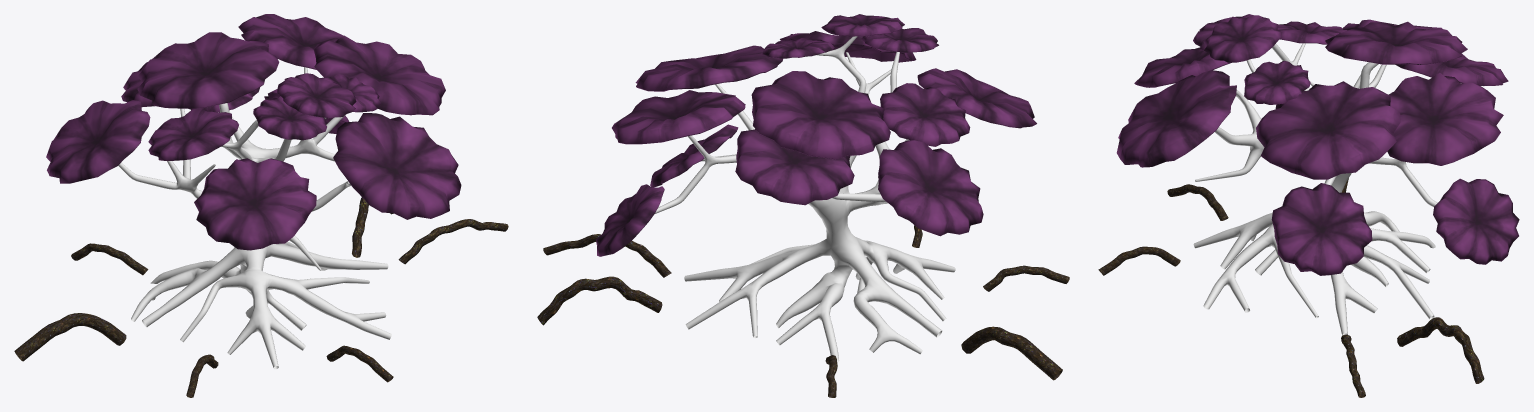
File: LostTree.fbx
3 views of the same model, side by side, from view 1: azimuth 30°, elevation 25°; view 2: azimuth 150°, elevation 25°; view 3: azimuth 270°, elevation 25° (orthographic). The views are drawn at different scales.
Visible parts, largest first — view 1: Cube, Circle.013, Circle.012, Circle.003, Circle.006, Circle, Circle.002, Circle.005, Circle.010, Circle.009, Sphere, Sphere.003 (+6 smaller); view 2: Cube, Circle.003, Circle, Circle.001, Circle.005, Circle.002, Circle.006, Circle.012, Circle.007, Sphere, Sphere.004, Circle.008 (+6 smaller); view 3: Cube, Circle.006, Circle.005, Circle.013, Circle.008, Circle.007, Circle.003, Circle.010, Circle.011, Circle.012, Circle.001, Sphere.004 (+5 smaller).
Part boxes in pixels (x1=…): Cube: x1=118, y1=67, x2=391, y2=369; Circle.013: x1=333, y1=113, x2=461, y2=219; Circle.012: x1=194, y1=158, x2=316, y2=250; Circle.003: x1=137, y1=32, x2=279, y2=108; Circle.006: x1=313, y1=35, x2=445, y2=115; Circle: x1=46, y1=100, x2=150, y2=183; Circle.002: x1=148, y1=108, x2=238, y2=161; Circle.005: x1=238, y1=14, x2=343, y2=69; Circle.010: x1=277, y1=73, x2=356, y2=118; Circle.009: x1=253, y1=96, x2=326, y2=140; Sphere: x1=14, y1=313, x2=126, y2=361; Sphere.003: x1=398, y1=219, x2=508, y2=264; Cube: x1=655, y1=36, x2=955, y2=362; Circle.003: x1=751, y1=71, x2=890, y2=159; Circle: x1=878, y1=140, x2=983, y2=236; Circle.001: x1=735, y1=128, x2=854, y2=205; Circle.005: x1=612, y1=90, x2=745, y2=144; Circle.002: x1=880, y1=83, x2=970, y2=146; Circle.006: x1=635, y1=45, x2=782, y2=91; Circle.012: x1=917, y1=68, x2=1036, y2=128; Circle.007: x1=595, y1=184, x2=664, y2=256; Sphere: x1=961, y1=326, x2=1062, y2=380; Sphere.004: x1=537, y1=276, x2=662, y2=325; Circle.008: x1=650, y1=124, x2=738, y2=187; Cube: x1=1193, y1=43, x2=1437, y2=335; Circle.006: x1=1256, y1=81, x2=1400, y2=179; Circle.005: x1=1387, y1=73, x2=1503, y2=165; Circle.013: x1=1116, y1=70, x2=1236, y2=167; Circle.008: x1=1271, y1=183, x2=1372, y2=275; Circle.007: x1=1433, y1=178, x2=1519, y2=264; Circle.003: x1=1325, y1=21, x2=1467, y2=64; Circle.010: x1=1204, y1=15, x2=1282, y2=62; Circle.011: x1=1244, y1=61, x2=1310, y2=104; Circle.012: x1=1134, y1=47, x2=1231, y2=87; Circle.001: x1=1395, y1=53, x2=1508, y2=86; Sphere.004: x1=1397, y1=317, x2=1484, y2=383.
Size of the model in its own units: 2889 by 1458 by 2118.
